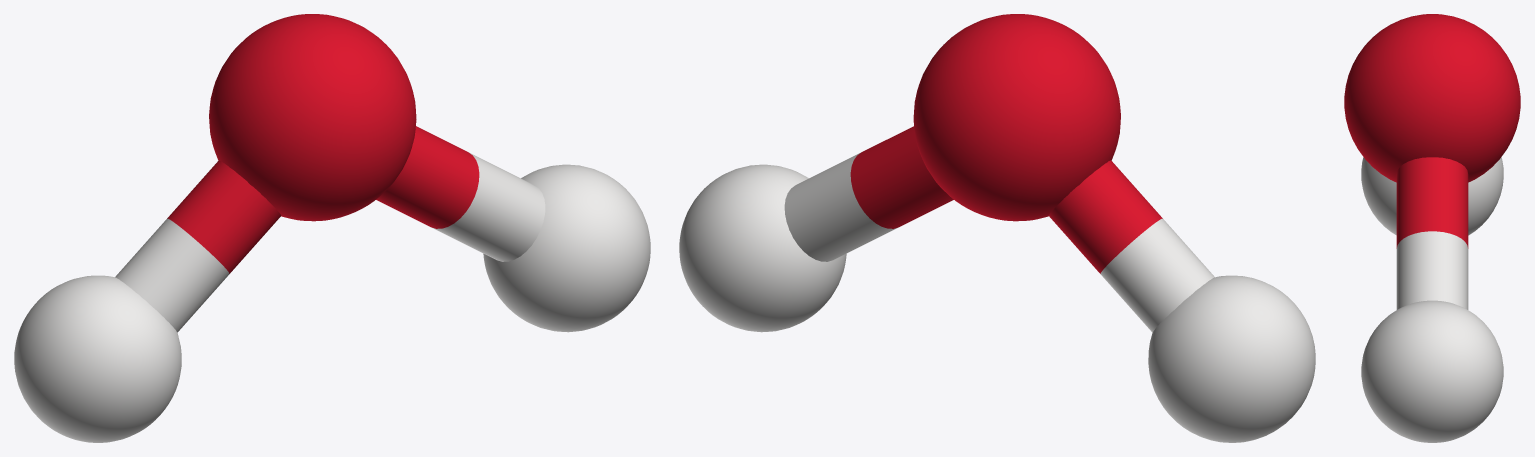
The model's file is fayingwu2.gltf.
The picture shows the model from 3 angles, left to right: view 1: azimuth 30°, elevation 25°; view 2: azimuth 150°, elevation 25°; view 3: azimuth 270°, elevation 25°; orthographic projection. The views are drawn at different scales.
Visible parts, largest first — view 1: 对象003, 对象008; view 2: 对象003, 对象008; view 3: 对象003, 对象008.
Boxes of the visible parts, box(x1,y1,x2,y2) form: 对象003: box(167, 14, 650, 332); 对象008: box(14, 218, 229, 442); 对象003: box(679, 14, 1162, 332); 对象008: box(1100, 218, 1315, 442); 对象003: box(1344, 14, 1520, 442); 对象008: box(1361, 157, 1503, 235).
Bounding box in the file's own units: 25.36 × 14.32 × 7.41.
2 materials, 2 textured.
